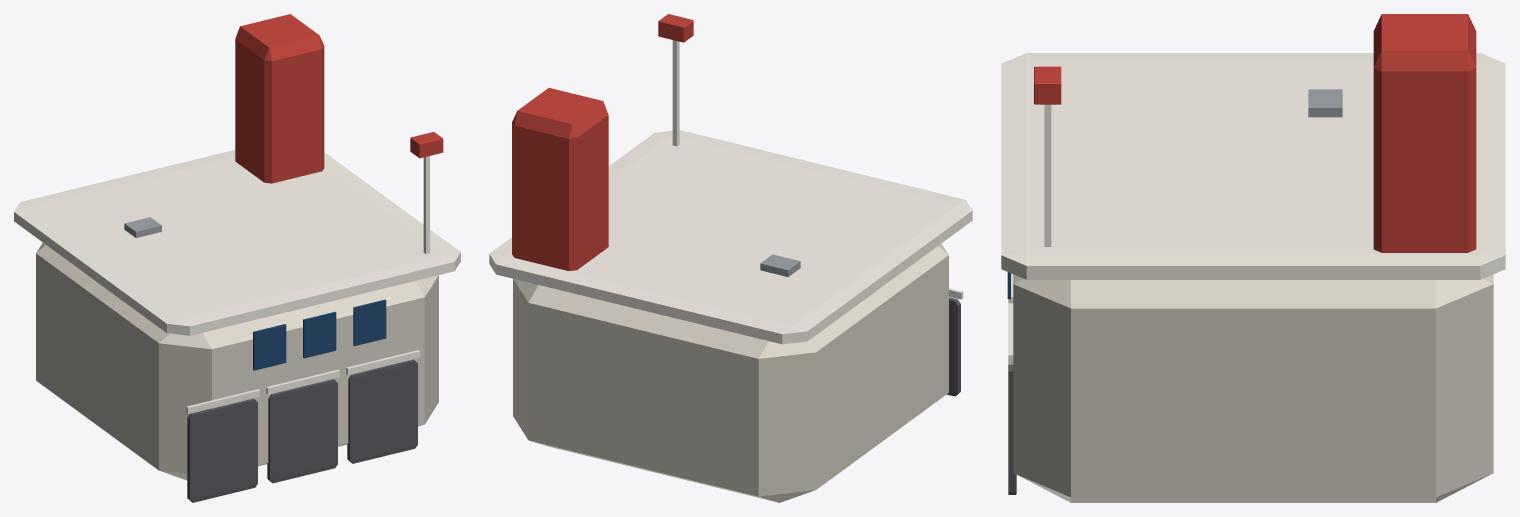
File: firehouse_l.glb
The picture shows the model from 3 angles, left to right: view 1: azimuth 30°, elevation 25°; view 2: azimuth 150°, elevation 25°; view 3: azimuth 270°, elevation 25°; orthographic projection. The views are drawn at different scales.
Parts seen in each view (by area): view 1: cornice, walls, hosetower, gdoor, gdoor.002, gdoor.001, win, win.001, win.002, flag, pole, gframe.002 (+3 smaller); view 2: walls, cornice, hosetower, gdoor, pole, flag, hvac; view 3: walls, cornice, hosetower, pole, flag, hvac, gdoor.002.
Part boxes in pixels (x1,y1,x2,y2): cornice: (14, 150, 460, 335); walls: (36, 243, 438, 480); hosetower: (235, 14, 324, 183); gdoor: (187, 398, 257, 502); gdoor.002: (347, 359, 417, 463); gdoor.001: (267, 379, 337, 483); win: (253, 324, 286, 370); win.001: (303, 312, 336, 358); win.002: (353, 299, 386, 346); flag: (410, 132, 443, 158); pole: (423, 156, 429, 253); gframe.002: (346, 350, 420, 374); walls: (513, 243, 948, 502); cornice: (489, 130, 972, 344); hosetower: (512, 88, 608, 270); gdoor: (947, 297, 960, 396); pole: (672, 40, 679, 146); flag: (658, 14, 693, 42); hvac: (760, 254, 800, 276); walls: (1013, 274, 1493, 502); cornice: (1001, 53, 1505, 279); hosetower: (1373, 14, 1476, 252); pole: (1044, 104, 1051, 246); flag: (1034, 66, 1061, 104); hvac: (1308, 89, 1342, 117); gdoor.002: (1008, 364, 1016, 494).
Size of the model in its own units: 14.7 by 15 by 14.7.
